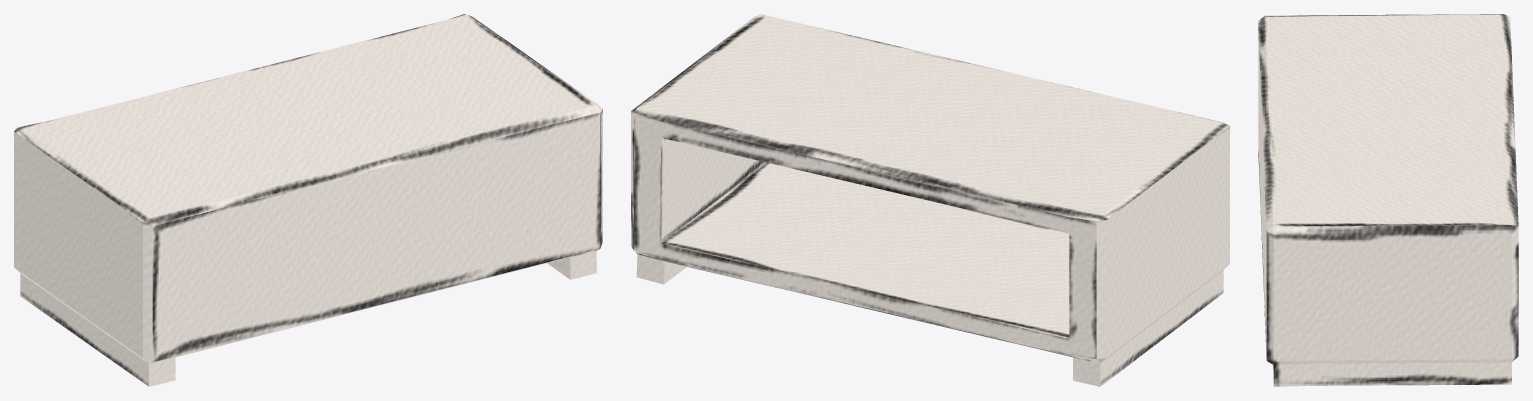
The model's file is furniture_shoe_rack.glb.
3 views of the same model, side by side, from view 1: azimuth 30°, elevation 25°; view 2: azimuth 150°, elevation 25°; view 3: azimuth 270°, elevation 25° (orthographic). The views are drawn at different scales.
Parts seen in each view (by area): view 1: Shoerack; view 2: Shoerack; view 3: Shoerack.
Part boxes in pixels (x1,y1,x2,y2): Shoerack: [14, 14, 602, 386]; Shoerack: [631, 14, 1229, 386]; Shoerack: [1258, 14, 1518, 386].
Bounding box in the file's own units: 0.0595 × 0.0204 × 0.0301.
1 material, 1 textured.
